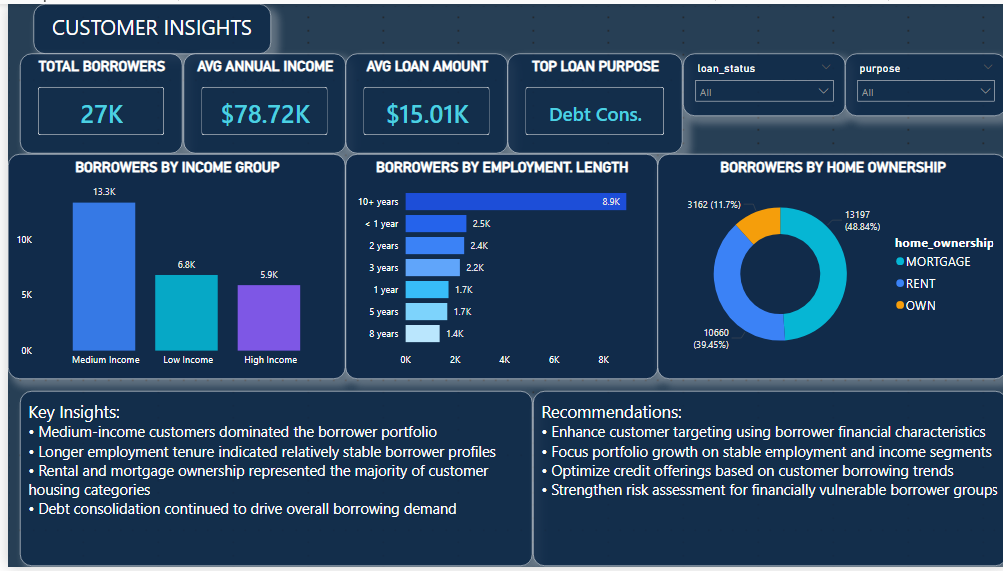

Layout of this report page (visuals, bound fields, positions):
{"tool":"powerbi","page":{"name":"Customer Insights","canvas":[1280,720],"ordinal":2},"visuals":[{"type":"textbox","box":[32,0,304,64],"z":0},{"type":"cardVisual","title":"TOTAL  BORROWERS","fields":{"Data":["loans.Total Borrowers"]},"box":[16,64,208,128],"z":1000},{"type":"cardVisual","title":"AVG ANNUAL INCOME","fields":{"Data":["loans.Avg Annual Income"]},"box":[224,64,208,128],"z":2000},{"type":"cardVisual","title":"AVG LOAN AMOUNT","fields":{"Data":["loans.Avg Loan Amount"]},"box":[432,64,208,128],"z":3000},{"type":"cardVisual","title":"TOP LOAN PURPOSE","fields":{"Data":["loans.Top Loan Purpose"]},"box":[640,64,224,128],"z":4000},{"type":"clusteredColumnChart","title":"BORROWERS BY INCOME GROUP","fields":{"Category":["loans.Income Group"],"Y":["loans.Total Borrowers"]},"box":[0,192,432,288],"z":5000},{"type":"clusteredBarChart","title":"BORROWERS BY EMPLOYMENT. LENGTH","fields":{"Category":["loans.emp_length"],"Y":["loans.Total Borrowers"]},"box":[432,192,400,288],"z":6000},{"type":"donutChart","title":"BORROWERS BY HOME OWNERSHIP","fields":{"Category":["loans.home_ownership"],"Y":["loans.Total Borrowers"]},"box":[832,192,448,288],"z":7000},{"type":"textbox","box":[16,496,656,224],"z":8000},{"type":"textbox","box":[672,496,608,224],"z":9000},{"type":"slicer","fields":{"Values":["loans.loan_status"]},"box":[864,64,208,80],"z":10000},{"type":"slicer","fields":{"Values":["loans.purpose"]},"box":[1072,64,208,80],"z":11000}]}

Visuals, with their boxes in screenshot pixels (x1, y1, x2, y2), scaled from the page's 1280x720 canvas onto the 1003x571 screenshot:
textbox: {"left": 25, "top": 0, "right": 263, "bottom": 51}
"TOTAL  BORROWERS" cardVisual: {"left": 13, "top": 51, "right": 176, "bottom": 152}
"AVG ANNUAL INCOME" cardVisual: {"left": 176, "top": 51, "right": 339, "bottom": 152}
"AVG LOAN AMOUNT" cardVisual: {"left": 339, "top": 51, "right": 502, "bottom": 152}
"TOP LOAN PURPOSE" cardVisual: {"left": 502, "top": 51, "right": 677, "bottom": 152}
"BORROWERS BY INCOME GROUP" clusteredColumnChart: {"left": 0, "top": 152, "right": 339, "bottom": 381}
"BORROWERS BY EMPLOYMENT. LENGTH" clusteredBarChart: {"left": 339, "top": 152, "right": 652, "bottom": 381}
"BORROWERS BY HOME OWNERSHIP" donutChart: {"left": 652, "top": 152, "right": 1002, "bottom": 381}
textbox: {"left": 13, "top": 393, "right": 527, "bottom": 570}
textbox: {"left": 527, "top": 393, "right": 1002, "bottom": 570}
slicer - loans.loan_status: {"left": 677, "top": 51, "right": 840, "bottom": 114}
slicer - loans.purpose: {"left": 840, "top": 51, "right": 1002, "bottom": 114}
